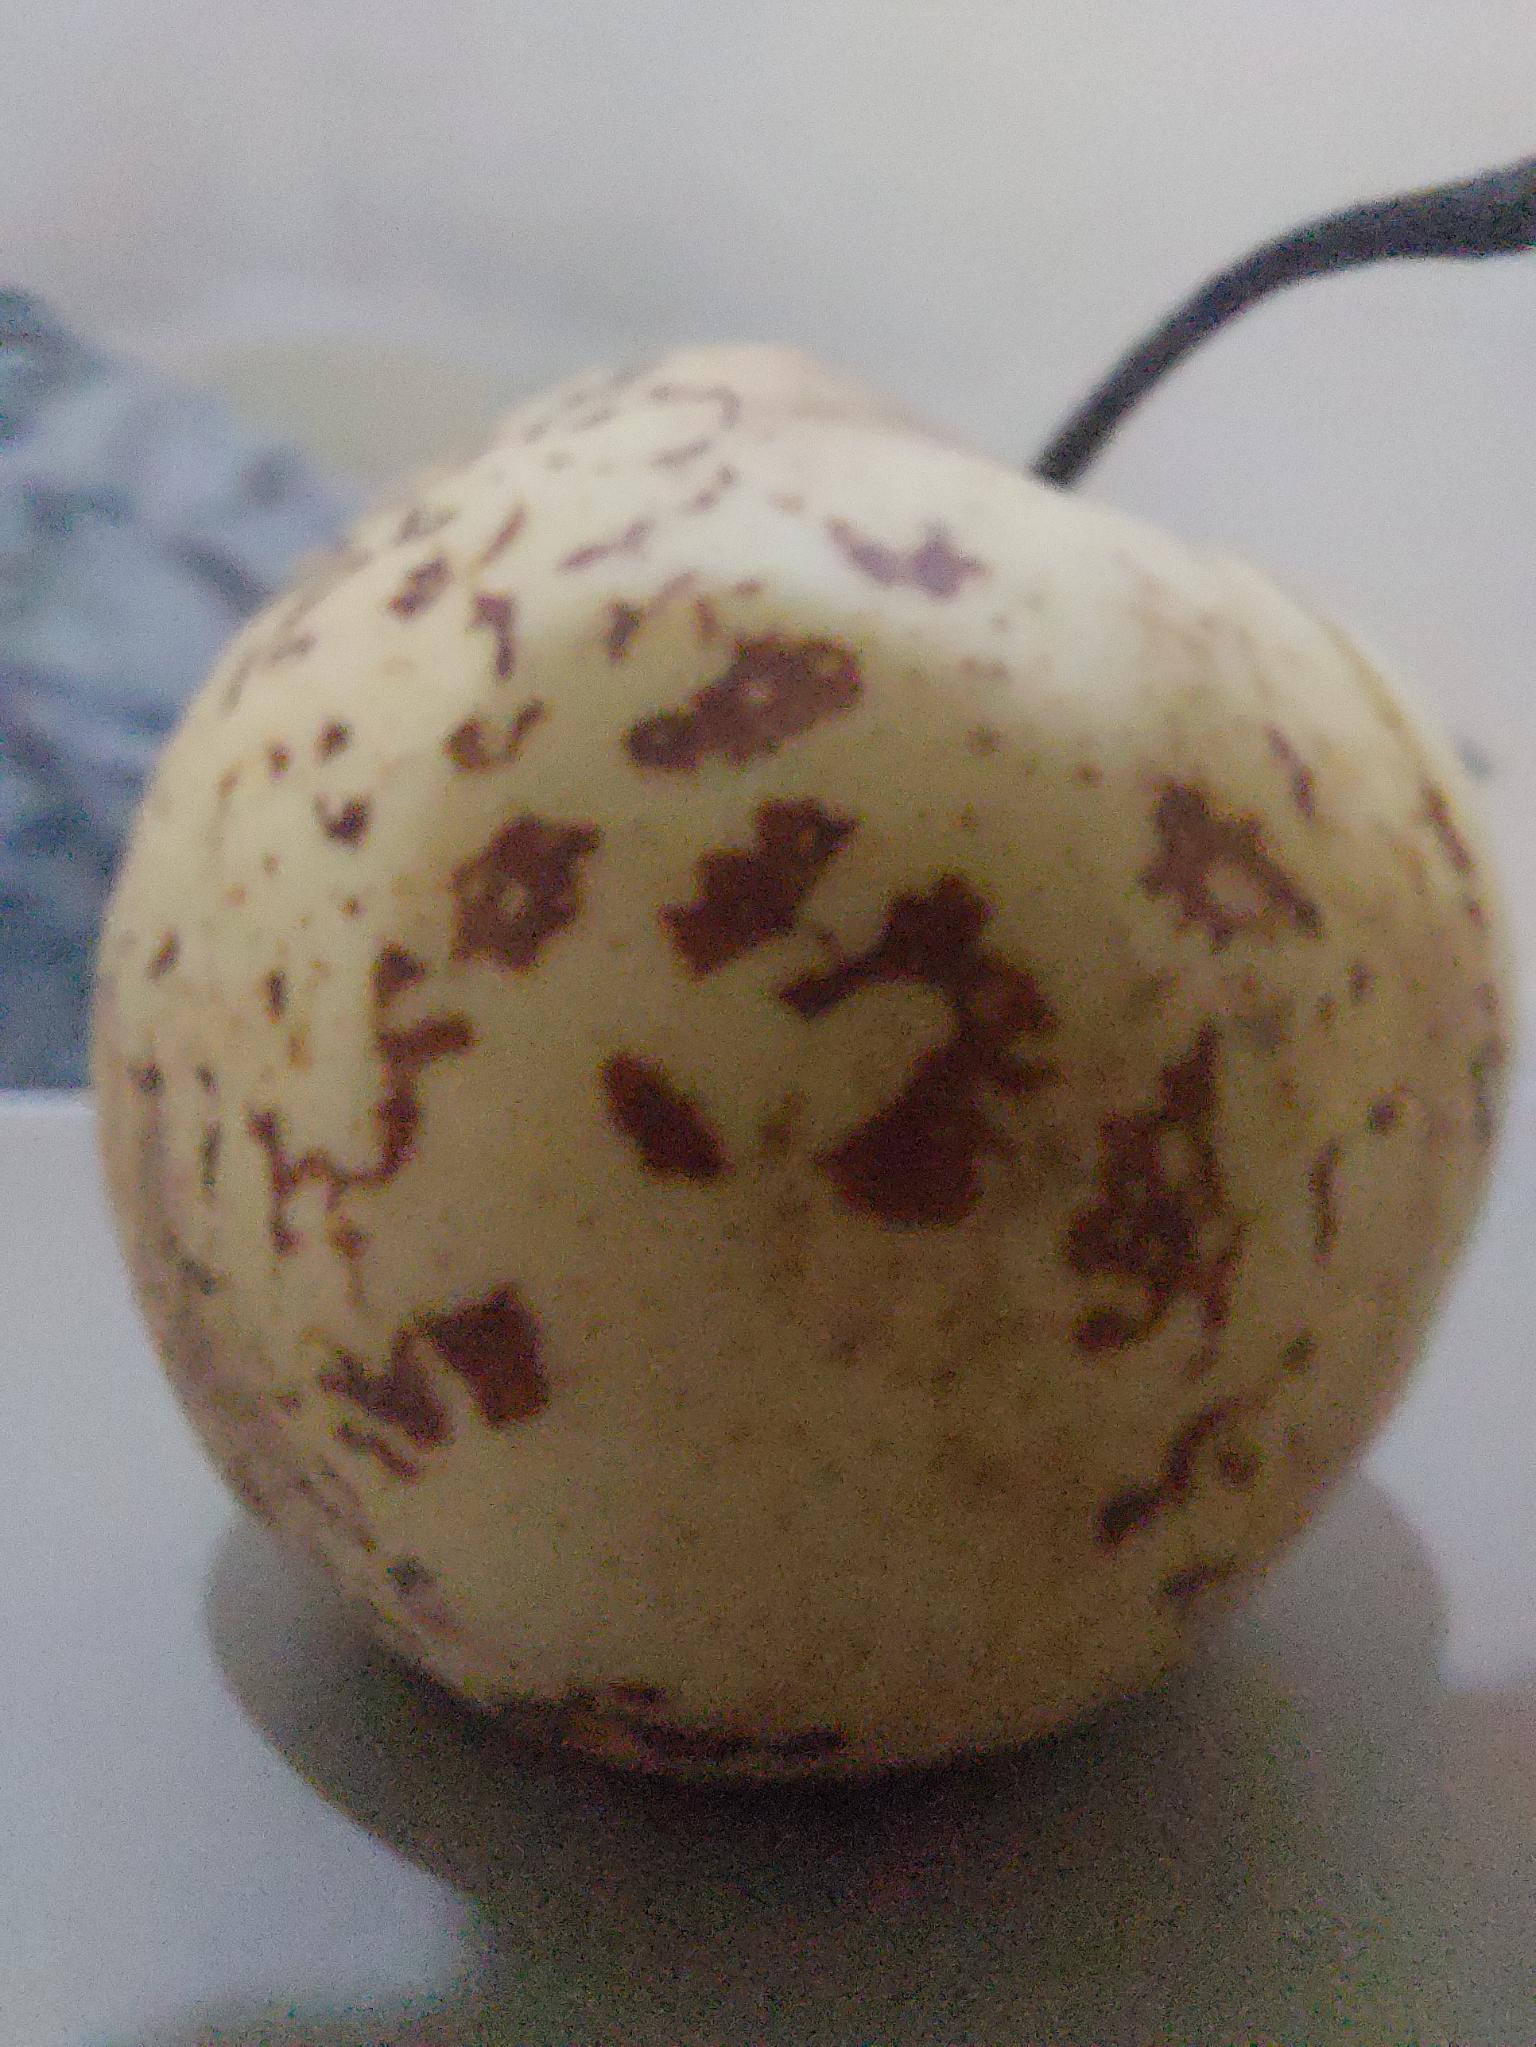Bad Pear: (84, 147, 1536, 1832)
